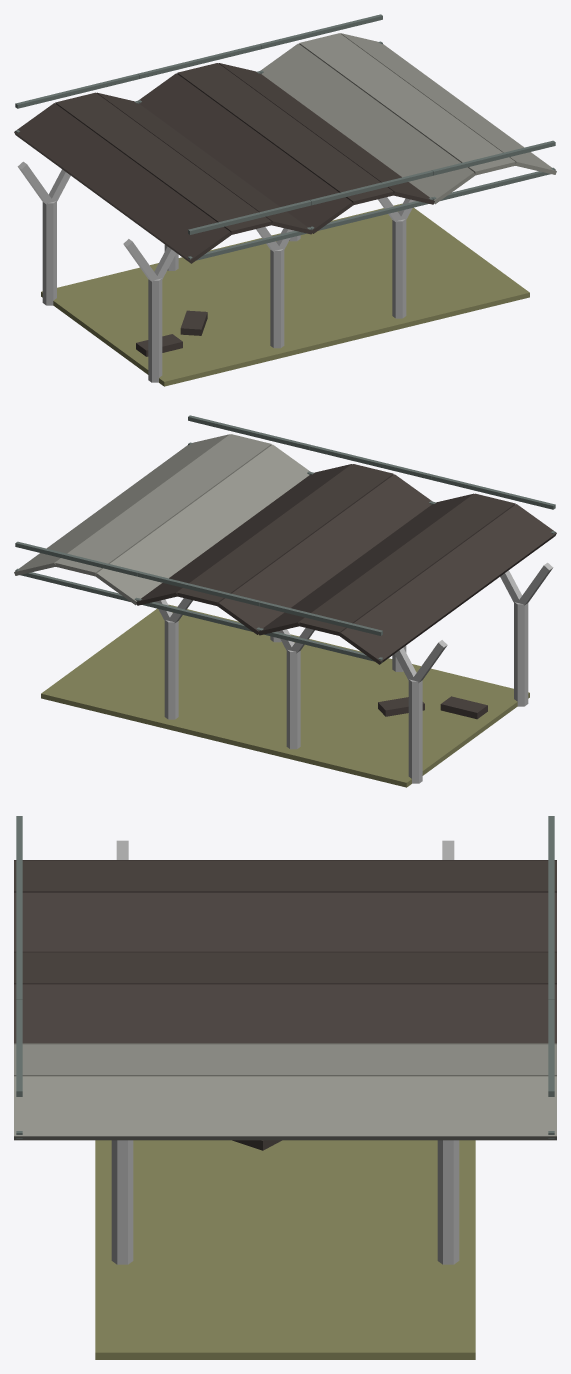
File: SM_MarquesinaBus_v4_Quemada_e0_Sano_LOD1.fbx
3 renders of one model, top to bottom at view 1: azimuth 30°, elevation 25°; view 2: azimuth 150°, elevation 25°; view 3: azimuth 270°, elevation 25°, orthographic. The views are drawn at different scales.
Visible parts, largest first — view 1: SM_marquesina_bus_v16_LOD1; view 2: SM_marquesina_bus_v16_LOD1; view 3: SM_marquesina_bus_v16_LOD1.
Part boxes in pixels (x1,y1,x2,y2): SM_marquesina_bus_v16_LOD1: (14,14,556,386); SM_marquesina_bus_v16_LOD1: (14,415,556,787); SM_marquesina_bus_v16_LOD1: (14,816,556,1359).
Bounding box in the file's own units: 13.01 × 5.46 × 10.
